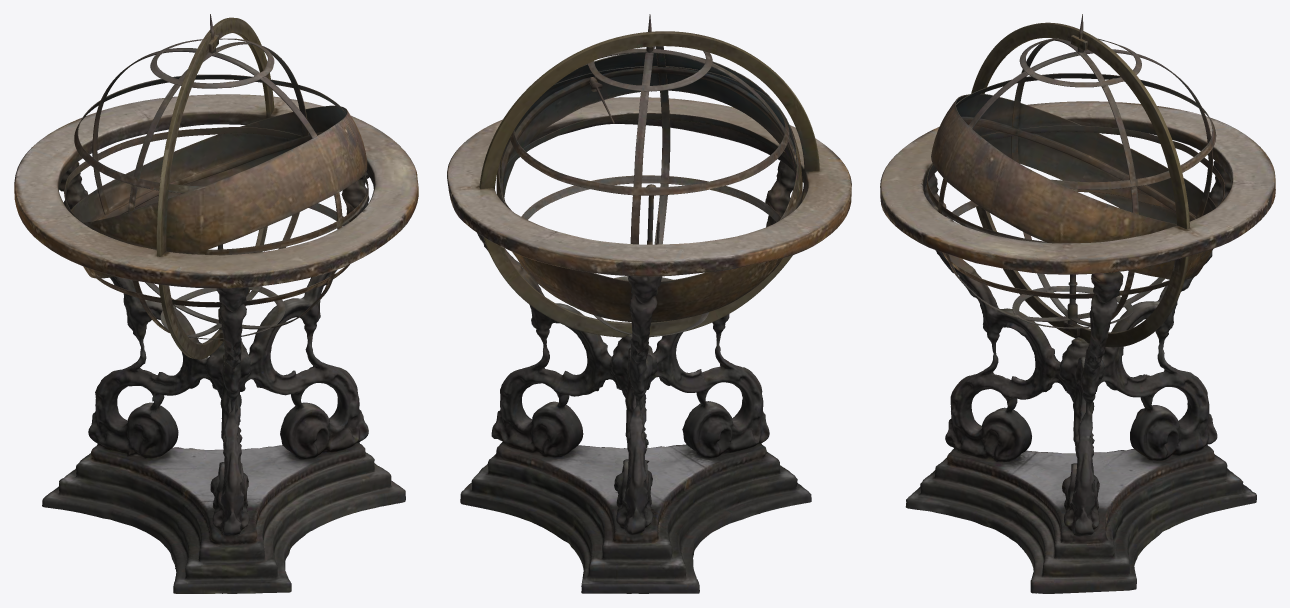
Rendered from obj_armillary_sphere_1828_b57c57.glb.
3 views of the same model, side by side, from view 1: azimuth 30°, elevation 25°; view 2: azimuth 150°, elevation 25°; view 3: azimuth 270°, elevation 25° (orthographic). The views are drawn at different scales.
Parts seen in each view (by area): view 1: obj_armillary_sphere_1828_b57c57; view 2: obj_armillary_sphere_1828_b57c57; view 3: obj_armillary_sphere_1828_b57c57.
Boxes of the visible parts, left/top/right/bottom form: obj_armillary_sphere_1828_b57c57: left=14, top=14, right=418, bottom=593; obj_armillary_sphere_1828_b57c57: left=447, top=14, right=851, bottom=593; obj_armillary_sphere_1828_b57c57: left=880, top=14, right=1275, bottom=593.
Size of the model in its own units: 0.3239 by 0.45 by 0.3238.
Materials: 1 (1 with a texture image).
